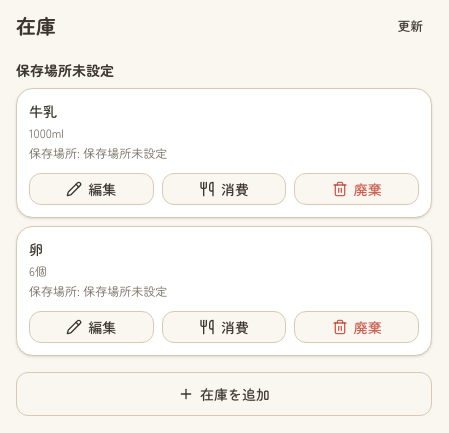
Test case: PantryClient › PC-04: consume 成功時に応答にない stock が一覧から消える
Click the button "消費" below "牛乳" at (224, 189), box [162, 173, 286, 205]
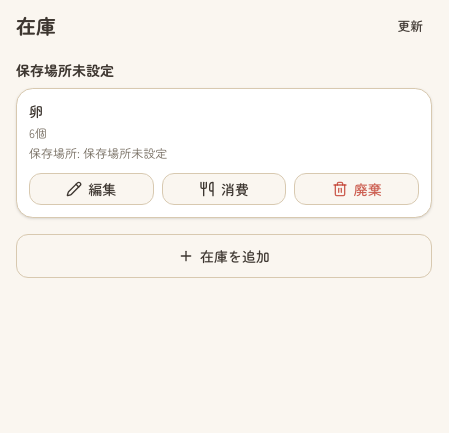
Expected: the text "卵" is shown, [29, 101, 43, 121]
Expected: the text "牛乳" is gone
